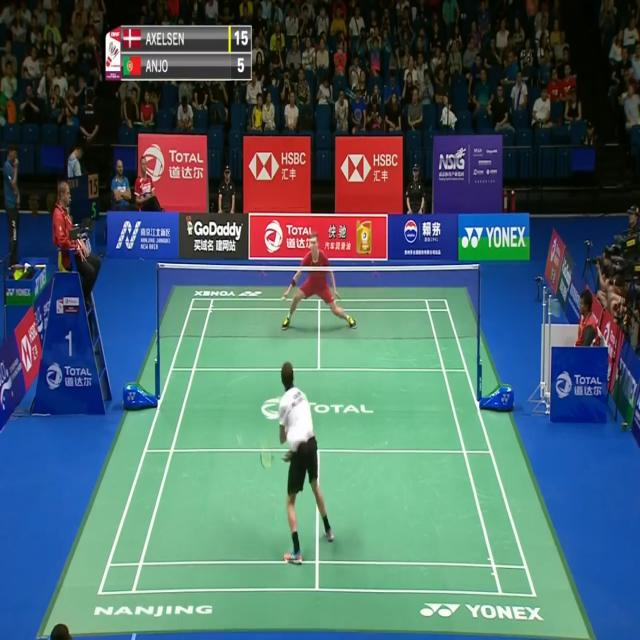Player1: (257, 356, 335, 566)
Player2: (274, 230, 358, 334)
